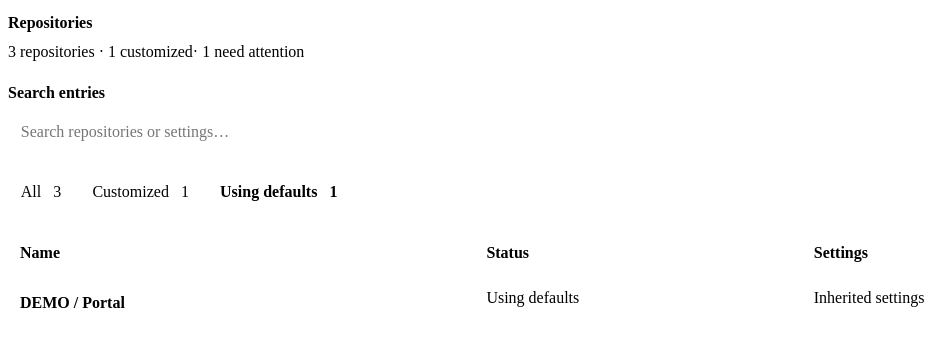
uses default/customized filters for repository and other scopes without mapping metadata
The image size is (941, 341).
Expected: the table shows "DEMO / Portal", [20, 281, 125, 325]
Step 1. Click the button "Customized 1" → (141, 192), box [80, 170, 202, 214]
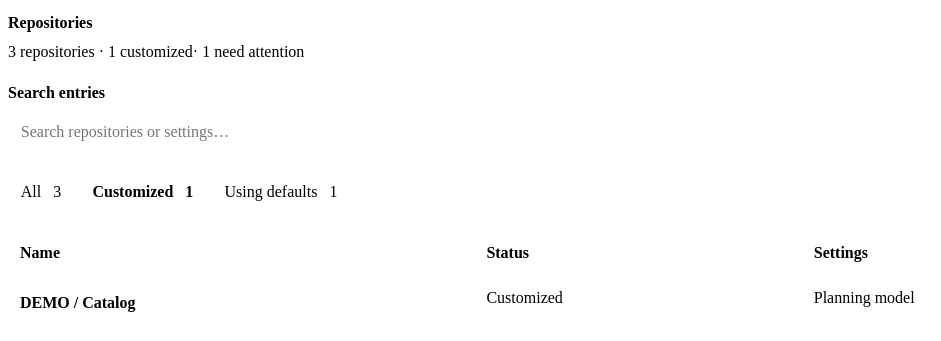
Expected: the table shows "Planning model", [814, 289, 915, 306]
